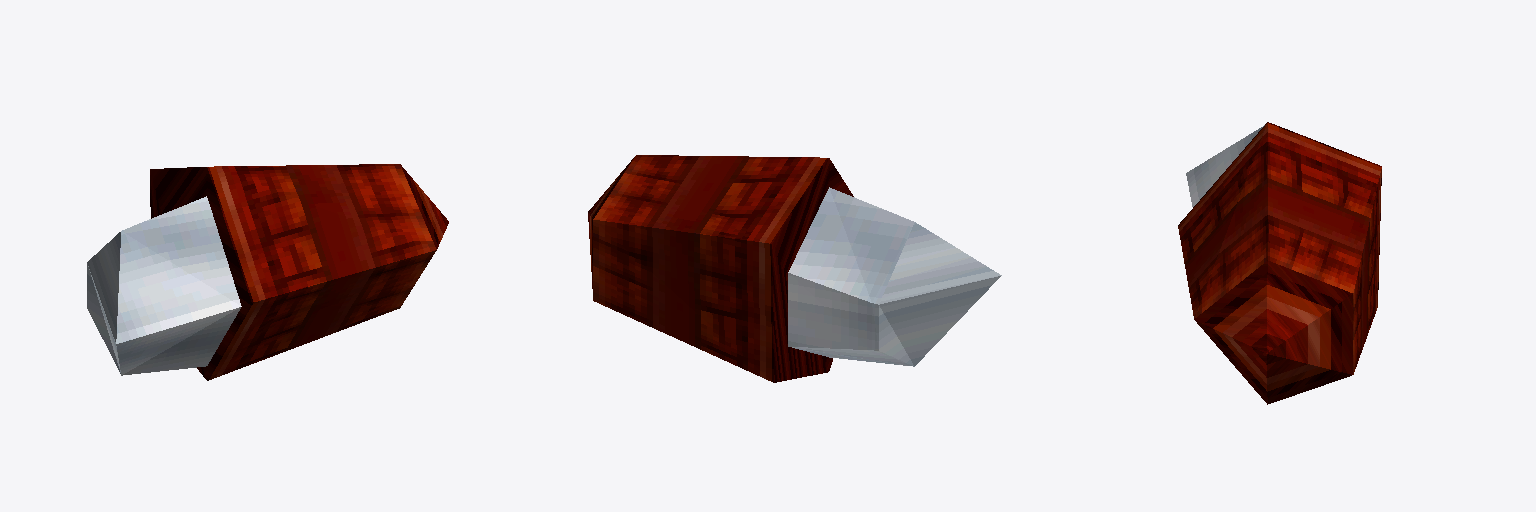
The picture shows the model from 3 angles: view 1: azimuth 30°, elevation 25°; view 2: azimuth 150°, elevation 25°; view 3: azimuth 270°, elevation 25°; orthographic projection.
Visible parts, largest first — view 1: AdultLink; view 2: AdultLink; view 3: AdultLink.
Boxes of the visible parts, box(x1,y1,x2,y2) form: AdultLink: box(87, 164, 448, 380); AdultLink: box(588, 155, 1001, 382); AdultLink: box(1178, 122, 1381, 404).
Size of the model in its own units: 1.96 by 1.07 by 0.9262.
Materials: 2 (2 with a texture image).